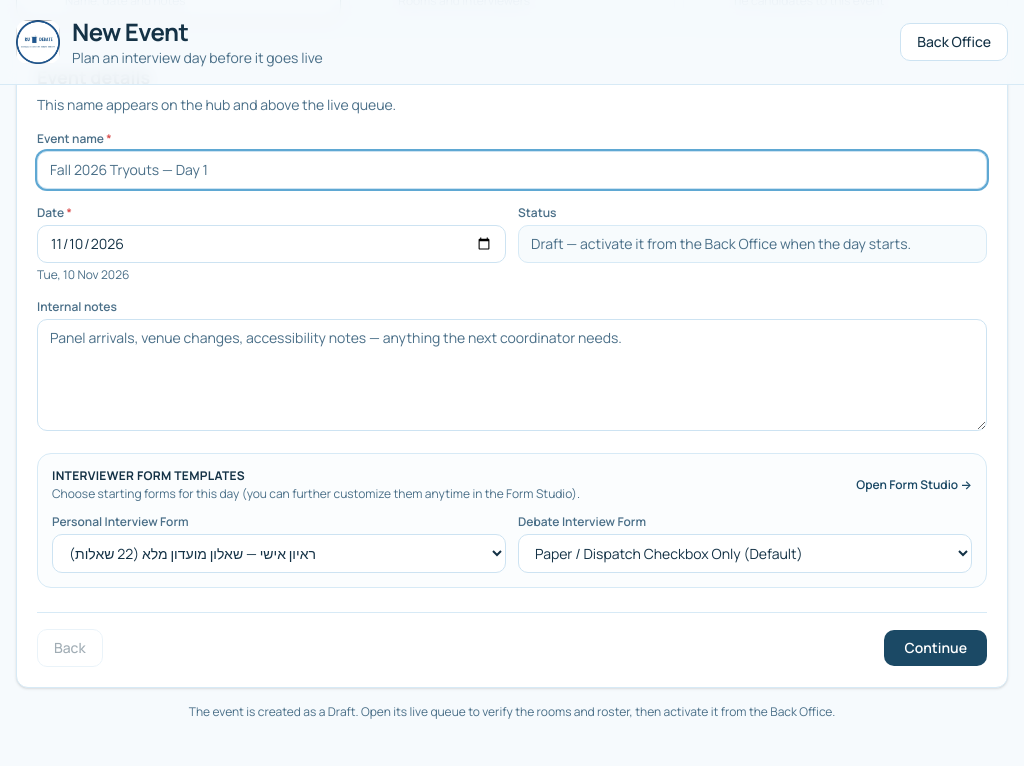
EventPlanner › requires a name and date before moving on
(page scrolled)
Click the button "Continue" at (936, 648), box [884,630,987,666]
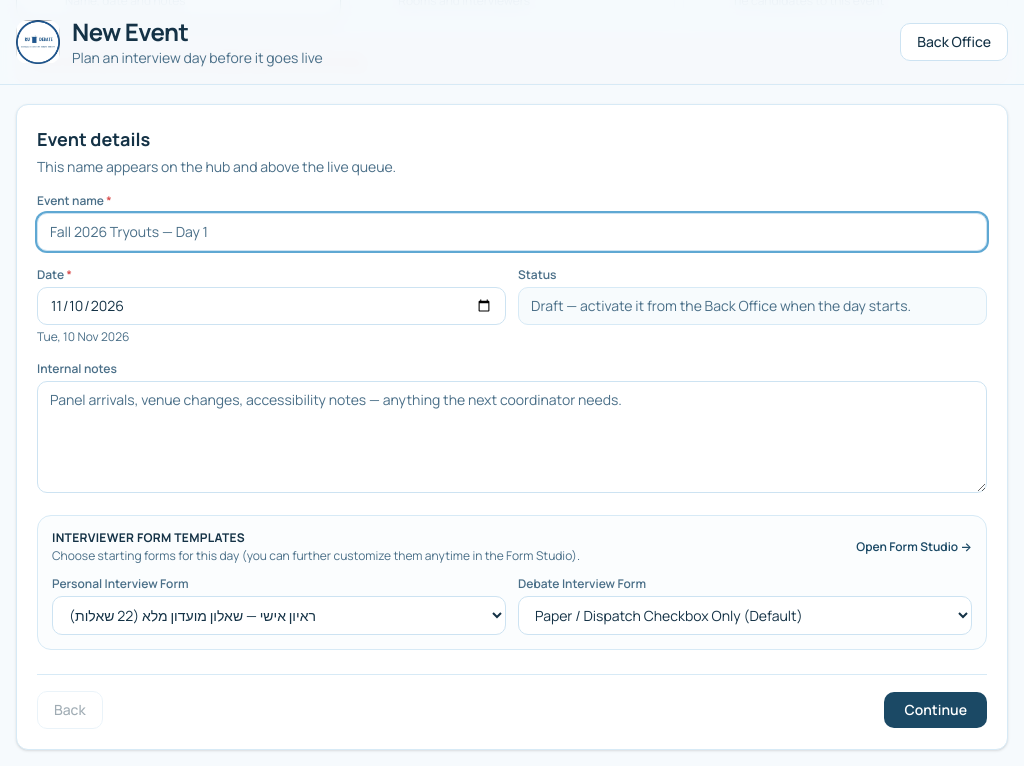
Check: the message shows "Give the event a name and a date", box [33,51,366,70]
Type "Fall Tryouts" into the field labelled "Event name *" at (512, 232), box [37,213,987,251]
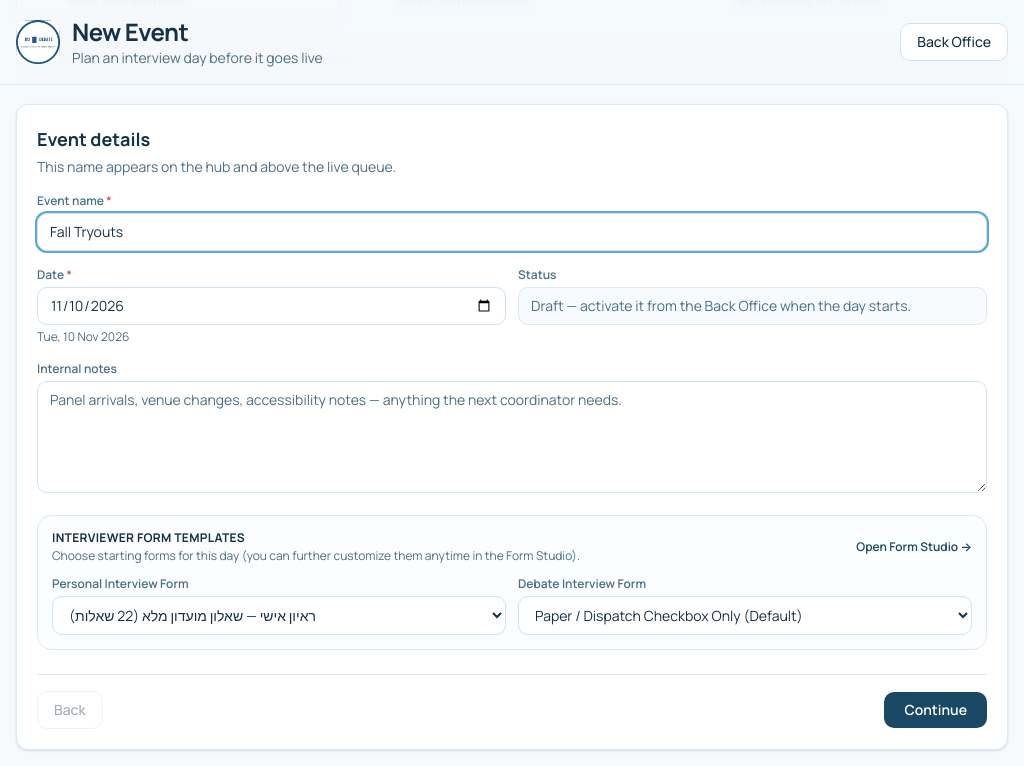
Type "2026-12-01" into the date field labelled "Date * Tue, 10 Nov 2026" at (272, 306), box [37,287,506,325]
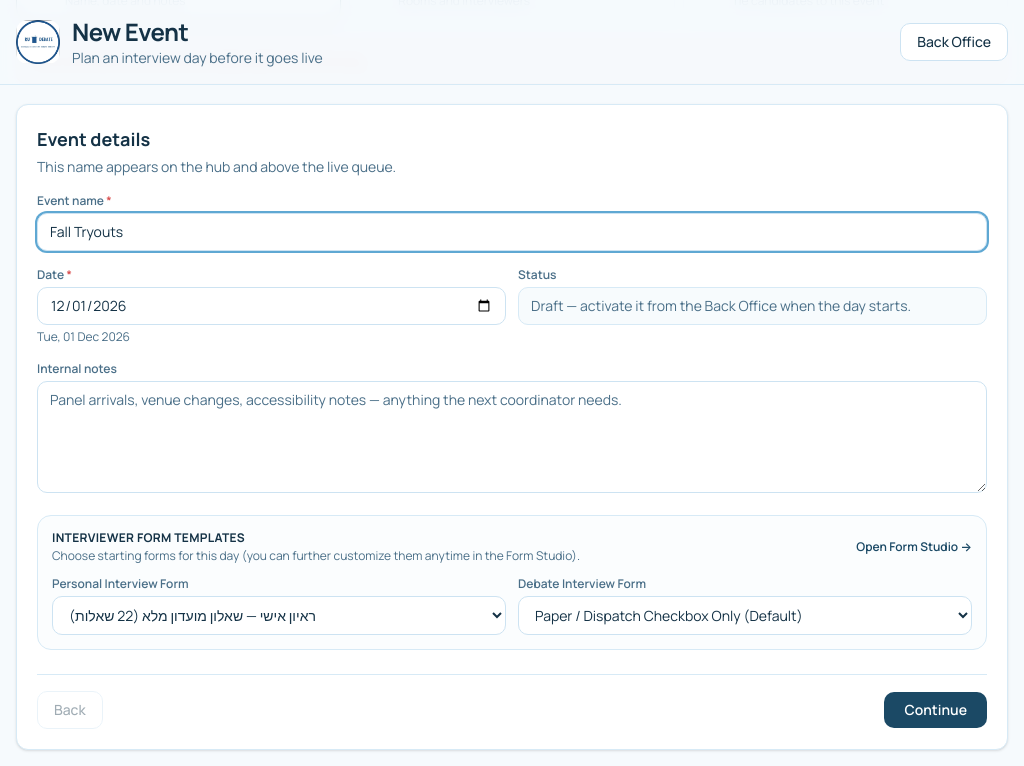
Click the button "Continue" at (936, 710), box [884,692,987,728]
(page scrolled)
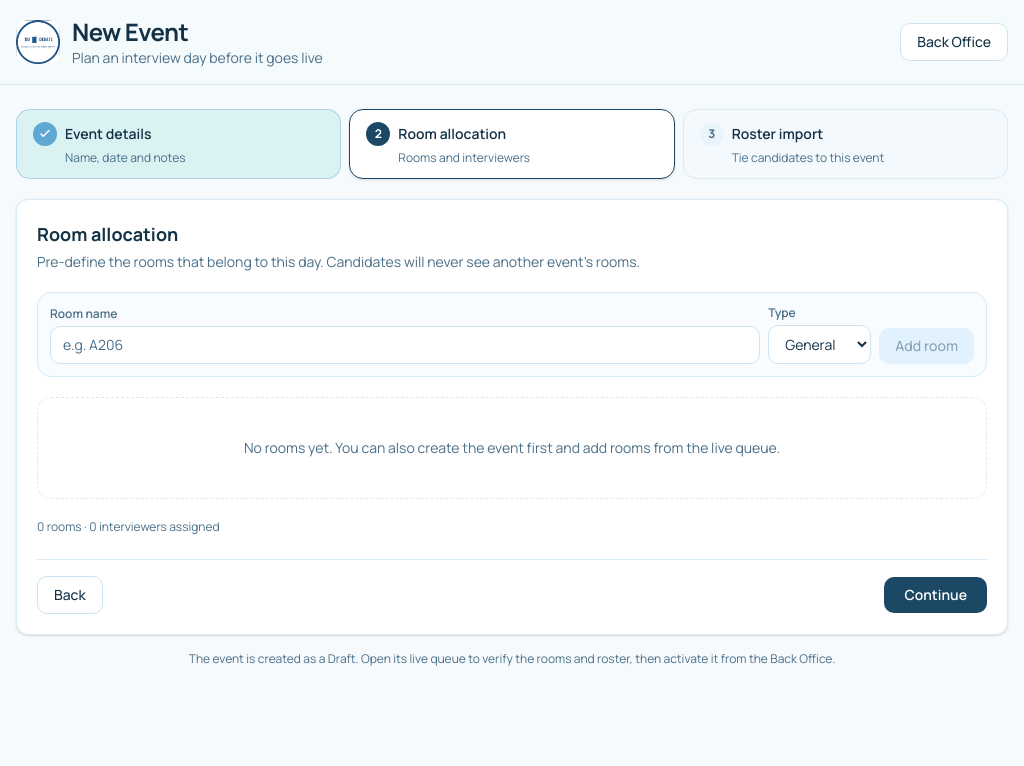
Check: the heading "Room allocation" is shown, box [37,222,178,246]
